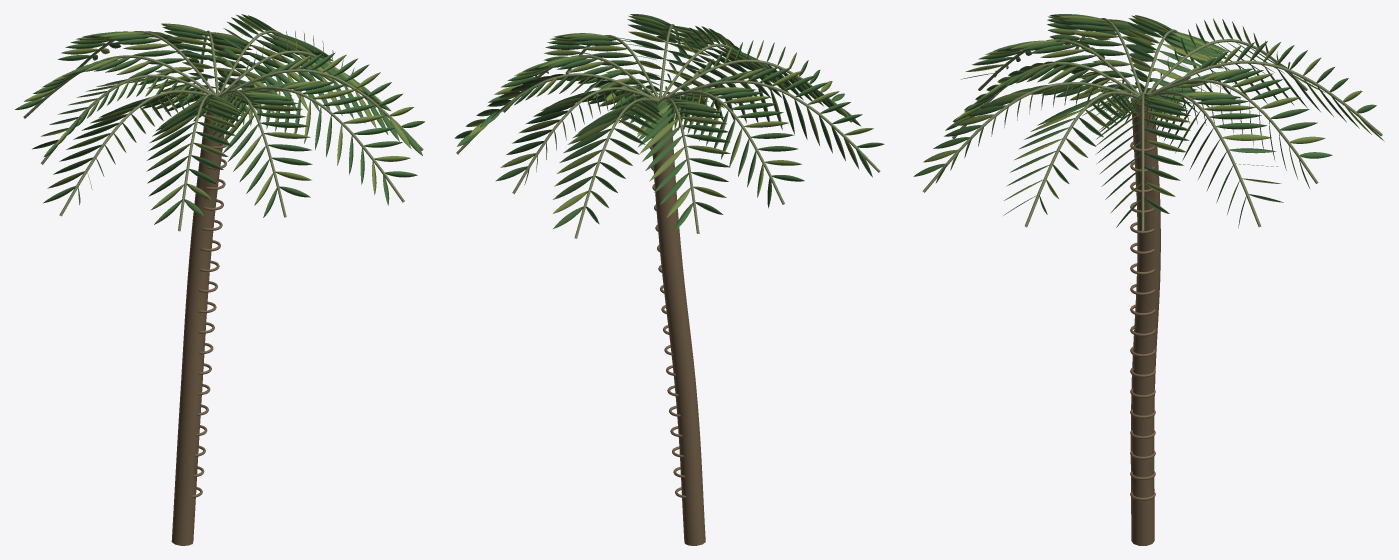
Rendered from palm.glb.
3 views of the same model, side by side, from view 1: azimuth 30°, elevation 25°; view 2: azimuth 150°, elevation 25°; view 3: azimuth 270°, elevation 25° (orthographic). The views are drawn at different scales.
Parts seen in each view (by area): view 1: Atelier_Palm; view 2: Atelier_Palm; view 3: Atelier_Palm.
Part boxes in pixels (left/top/right/bottom): Atelier_Palm: left=15, top=14, right=424, bottom=545; Atelier_Palm: left=454, top=14, right=884, bottom=545; Atelier_Palm: left=913, top=14, right=1384, bottom=545.
Bounding box in the file's own units: 3.53 × 4.41 × 3.81.
